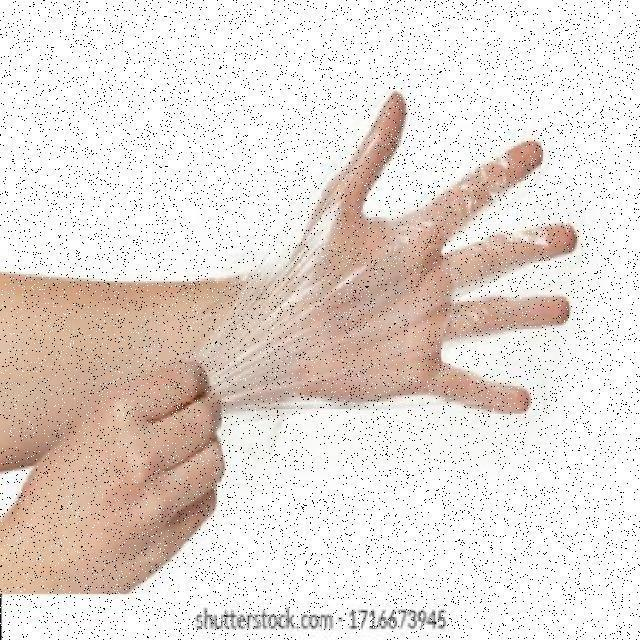Gloves: (262, 88, 594, 421)
